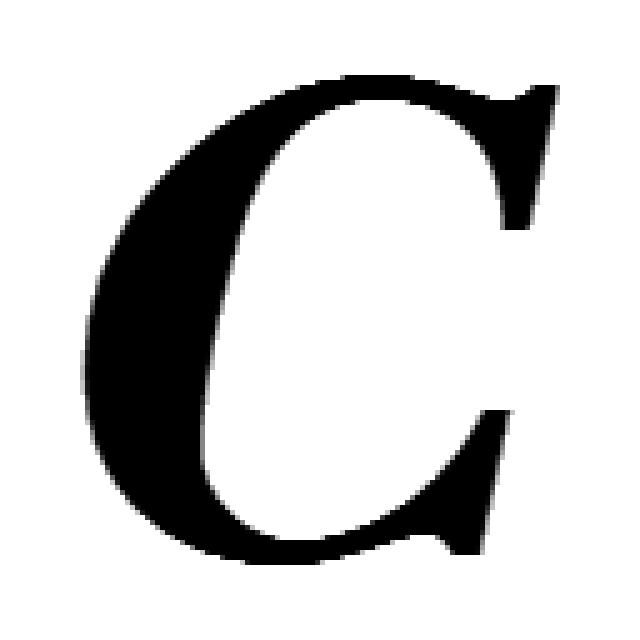C: (80, 75, 555, 570)
